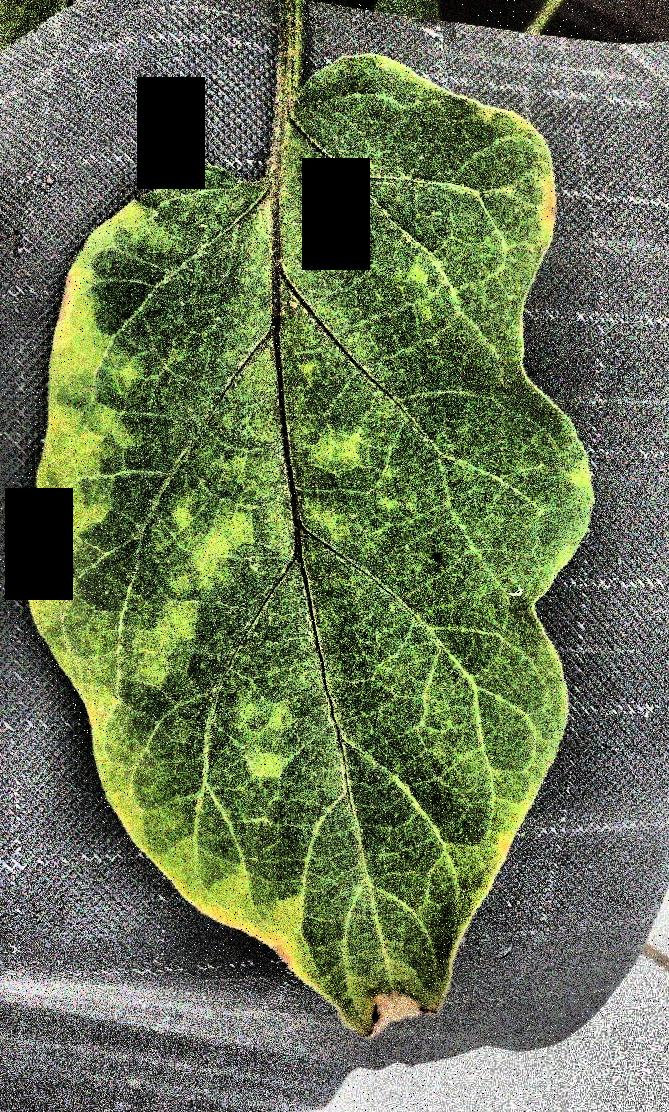Non-critical Stress: (1, 0, 669, 1112)
